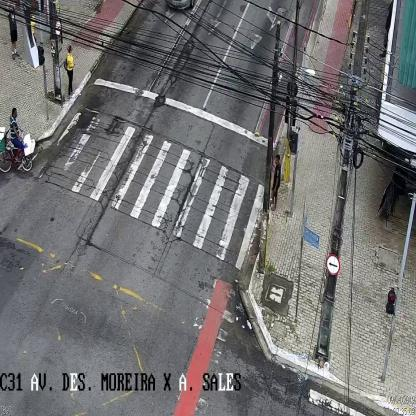bicycle: (1, 109, 38, 175)
person: (6, 6, 20, 59), (270, 154, 281, 210), (66, 45, 76, 97)
